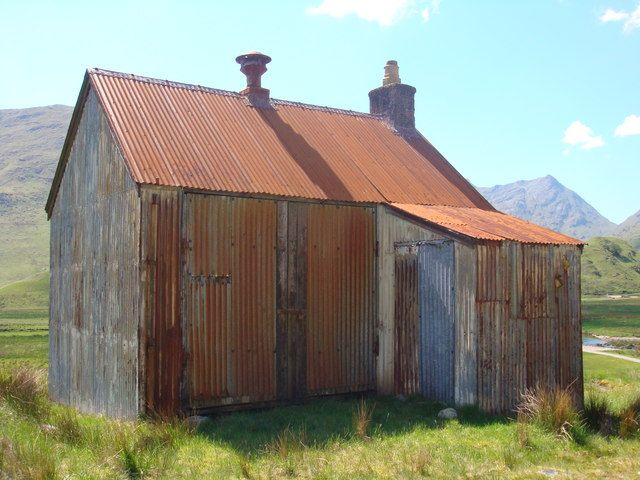Tin-shade House: (32, 53, 596, 429)
